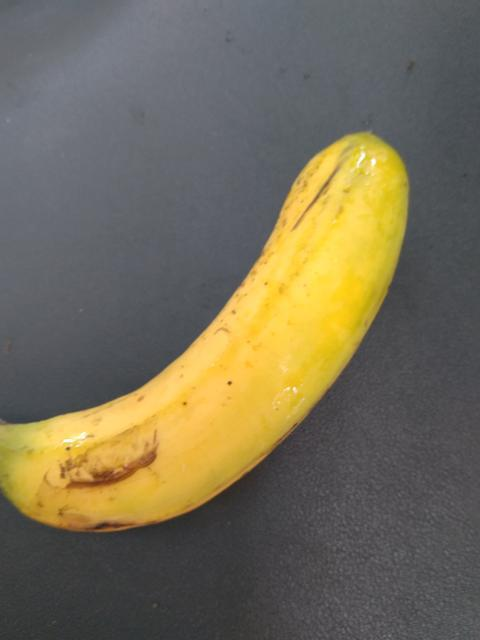ripe: (0, 125, 407, 557)
